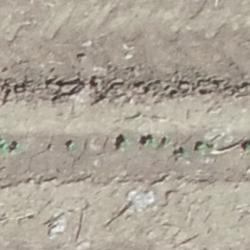cotton: (1, 140, 7, 152), (199, 143, 209, 150), (146, 139, 155, 146), (182, 149, 189, 156), (13, 145, 19, 150), (245, 145, 250, 151), (69, 143, 74, 148)
